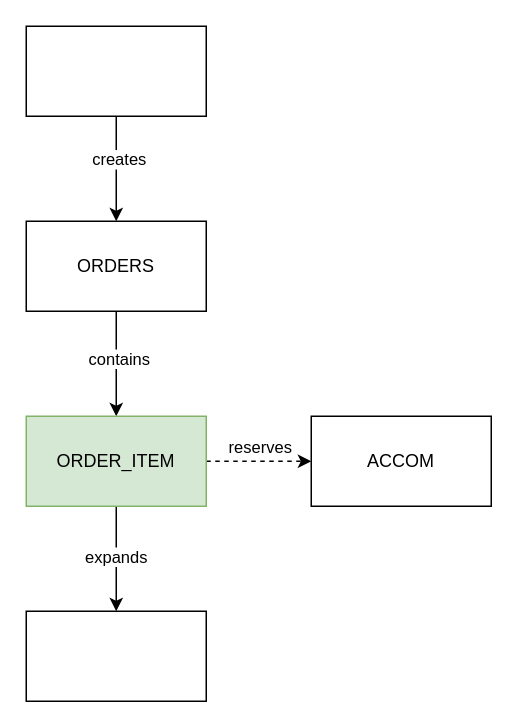
This 518x728 diagram has some shape labels left out. The shapes that lost their labels are listed below. From the top down, each one's centre as x and y in pixels, then its label:
the point at 115,70: MEMBER
the point at 115,655: ORDER_STAY_DATE
